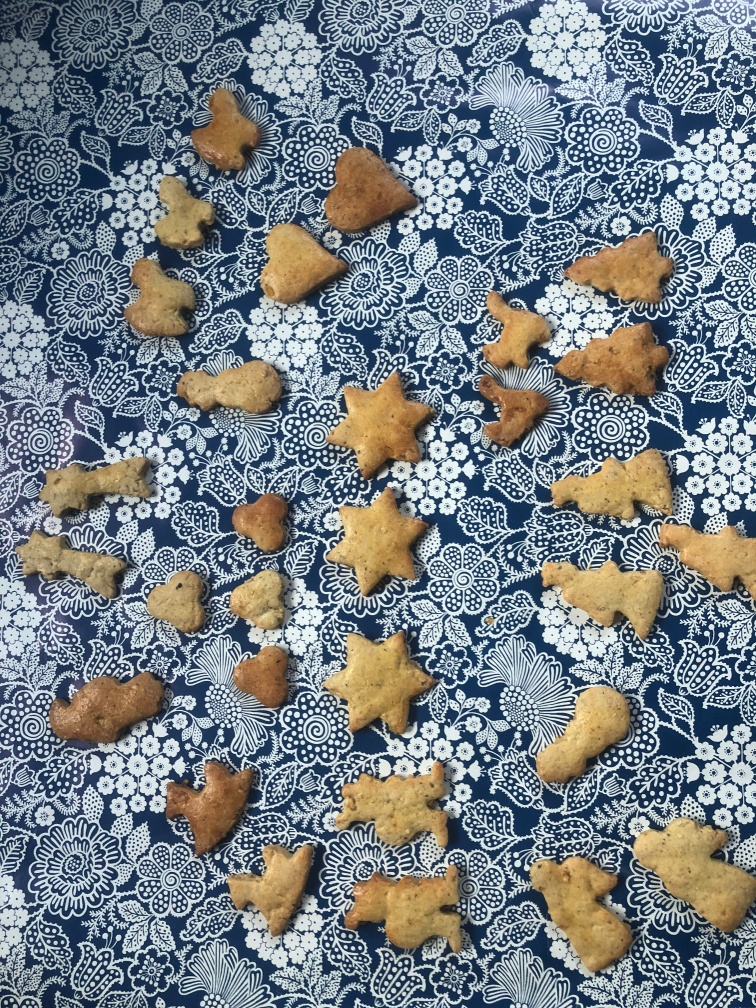angel: (632, 817, 754, 932), (525, 850, 640, 971)
christmas tree: (560, 322, 674, 403), (561, 228, 673, 307)
flake: (145, 568, 206, 633), (226, 489, 289, 551), (233, 645, 296, 705), (228, 568, 285, 630)
heart: (324, 142, 418, 233), (261, 223, 345, 304)
king mage: (535, 551, 665, 644), (550, 448, 679, 524), (657, 519, 756, 605)
lamb: (163, 757, 257, 853), (224, 838, 316, 935), (190, 86, 261, 168), (128, 259, 196, 335), (150, 174, 211, 246)
santa claus: (345, 863, 474, 961), (332, 761, 450, 853)
shooting star: (14, 528, 129, 602), (39, 455, 160, 516)
snowman: (533, 683, 632, 782), (47, 669, 165, 746), (171, 360, 283, 417)
squirrel: (479, 288, 553, 369), (478, 378, 549, 446)
star: (324, 488, 431, 599), (328, 368, 435, 477), (324, 629, 434, 733)
